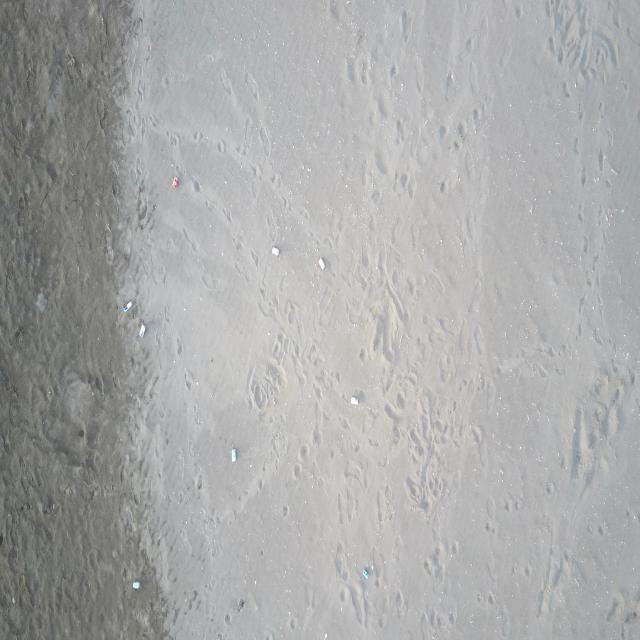tin-and-aluminum-cans: (122, 300, 132, 314), (138, 323, 146, 340), (270, 245, 280, 258), (230, 446, 237, 464), (318, 257, 326, 271), (172, 176, 180, 188), (132, 580, 140, 590), (362, 568, 369, 579), (350, 396, 359, 404)
